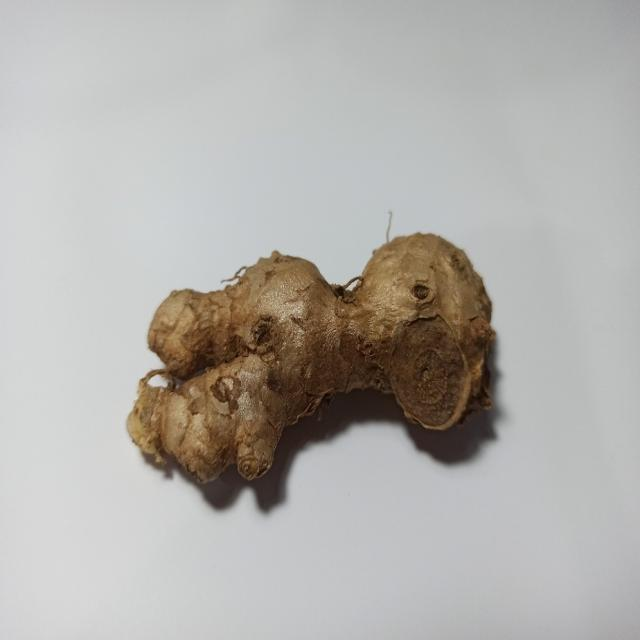ginger: (132, 237, 489, 482)
